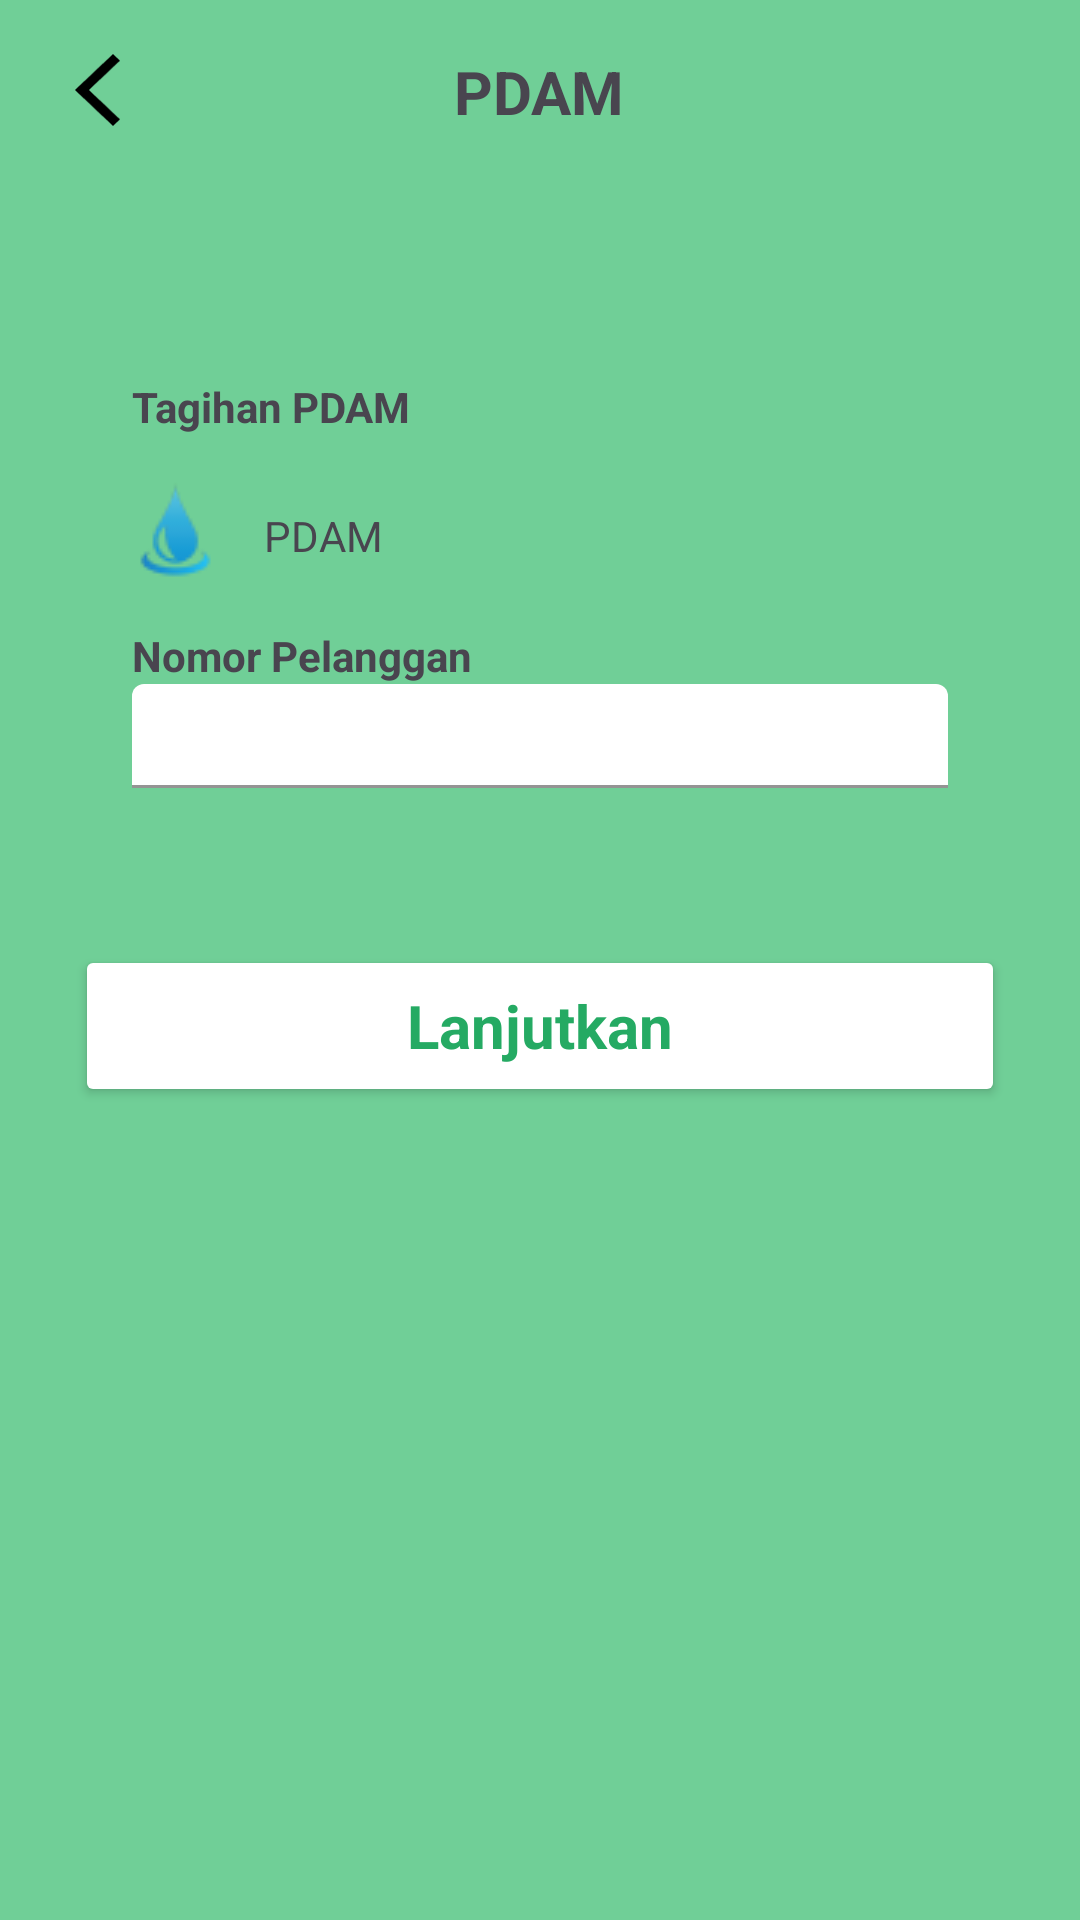

Icons on this 1080*1920 Android screen, each with its box as bbox(x1, y1, x2, y2):
iconback: bbox(75, 54, 120, 126)
